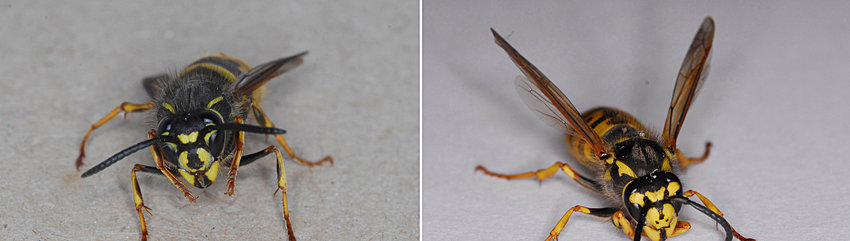chax: (471, 10, 768, 240), (77, 23, 360, 240)
